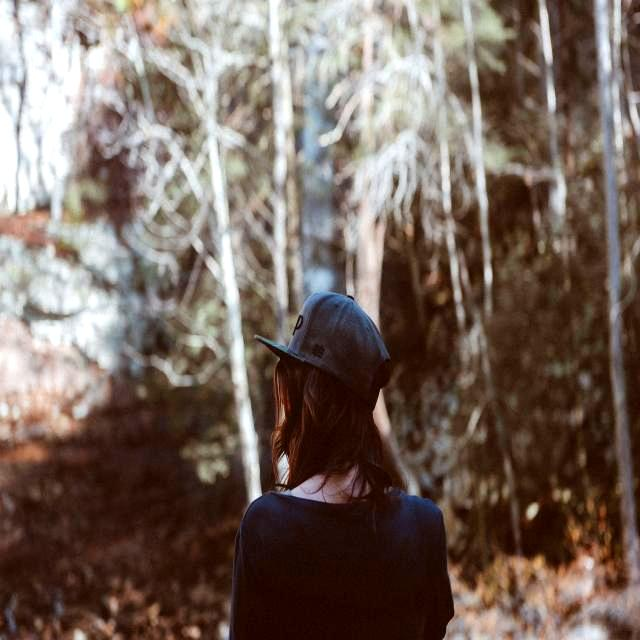no_hard_hat: (256, 292, 390, 409)
person: (230, 356, 454, 639)
